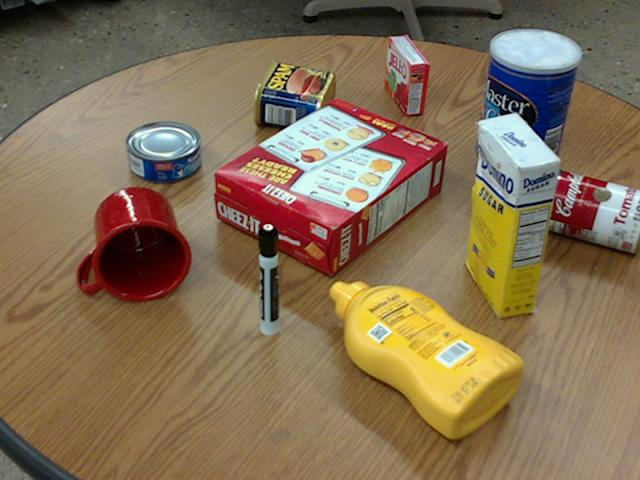cracker_box: (213, 99, 445, 275)
gelatin_box: (385, 35, 428, 114)
large_marker: (256, 223, 277, 335)
master_chef_can: (476, 29, 580, 173)
mug: (76, 187, 190, 301)
mustard_bottle: (329, 281, 522, 436)
potted_meat_can: (253, 59, 335, 130)
sugar_box: (466, 112, 558, 317)
tomato_soup_can: (542, 168, 639, 251)
tuna_fish_can: (125, 121, 200, 181)
